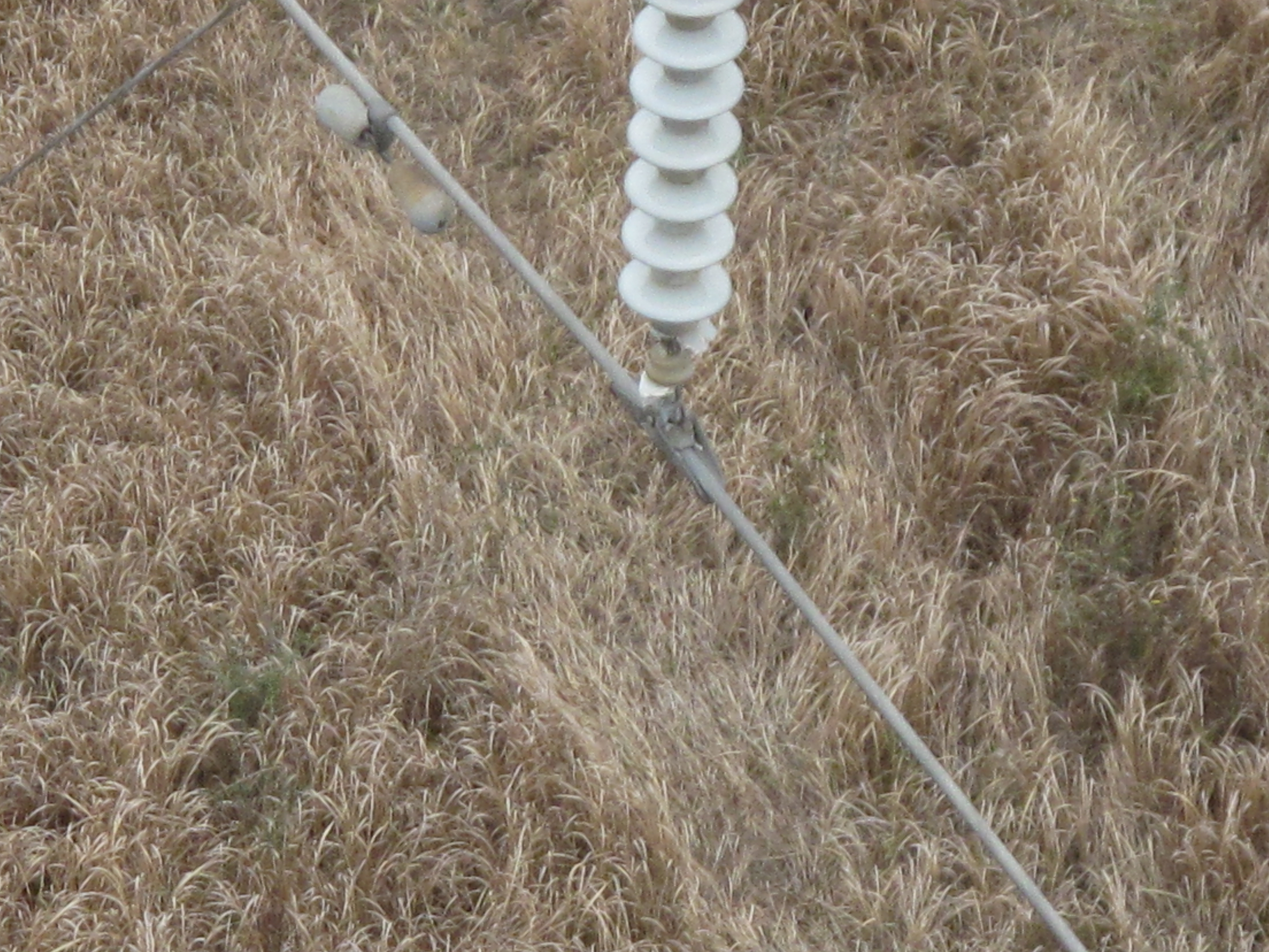damaged: (636, 314, 720, 401)
hammer: (305, 73, 458, 236)
insulator: (616, 0, 752, 438)
